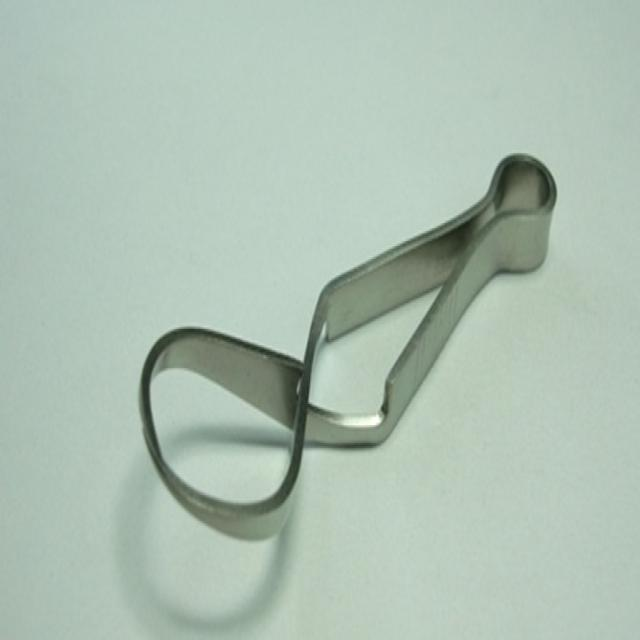Doyen Cross Action Towel Clamp: (131, 140, 560, 544)
